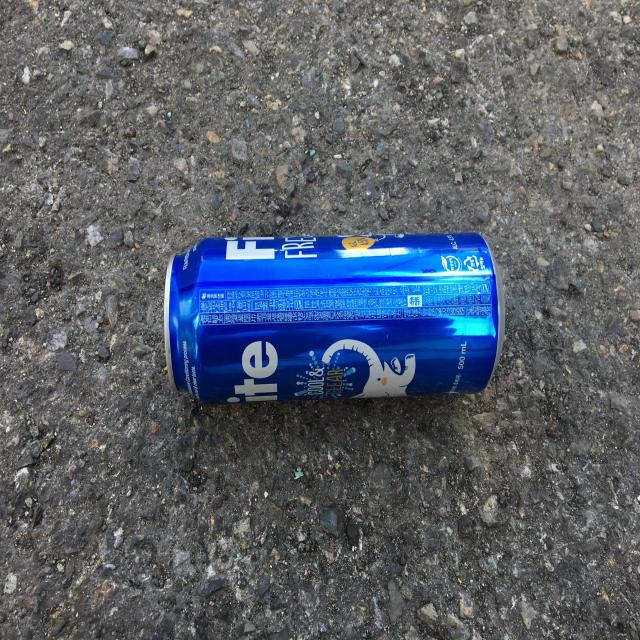can: (164, 233, 506, 404)
